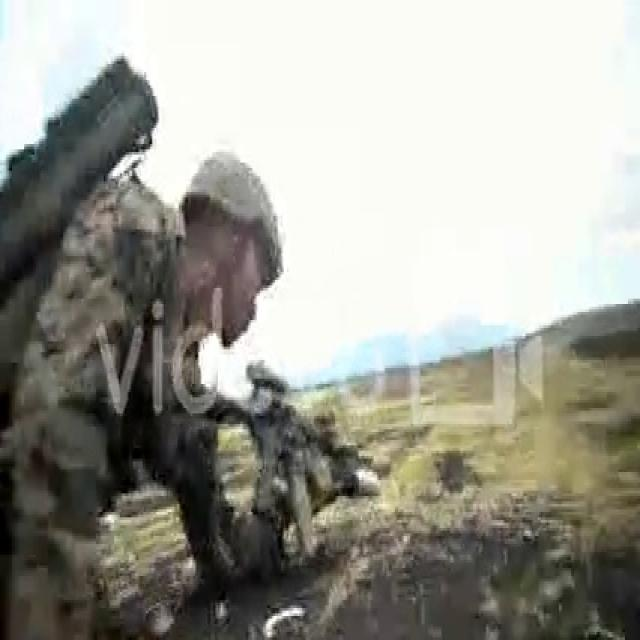bazooka: (1, 49, 164, 314)
